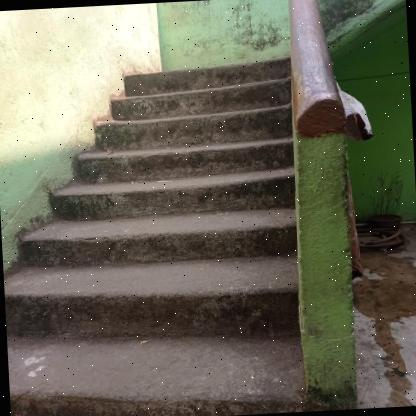stair: (0, 45, 340, 416)
